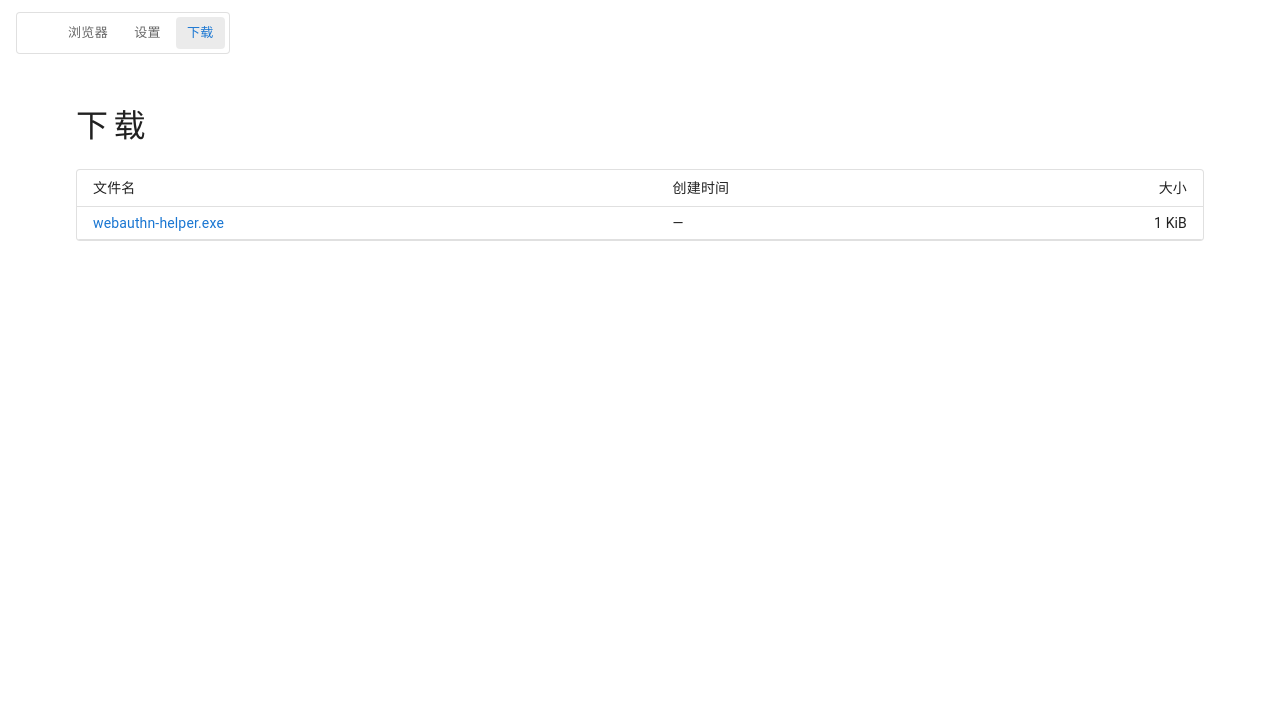
same-document navigation preserves the owned native session › opens Downloads with both password scopes locked and leaves their protections intact
Expected: the table named "下载文件" is shown, [77, 170, 1203, 240]
Expected: the field labelled "密码" is not shown
Click the link "设置".
click(148, 32)  # box [134, 25, 161, 40]
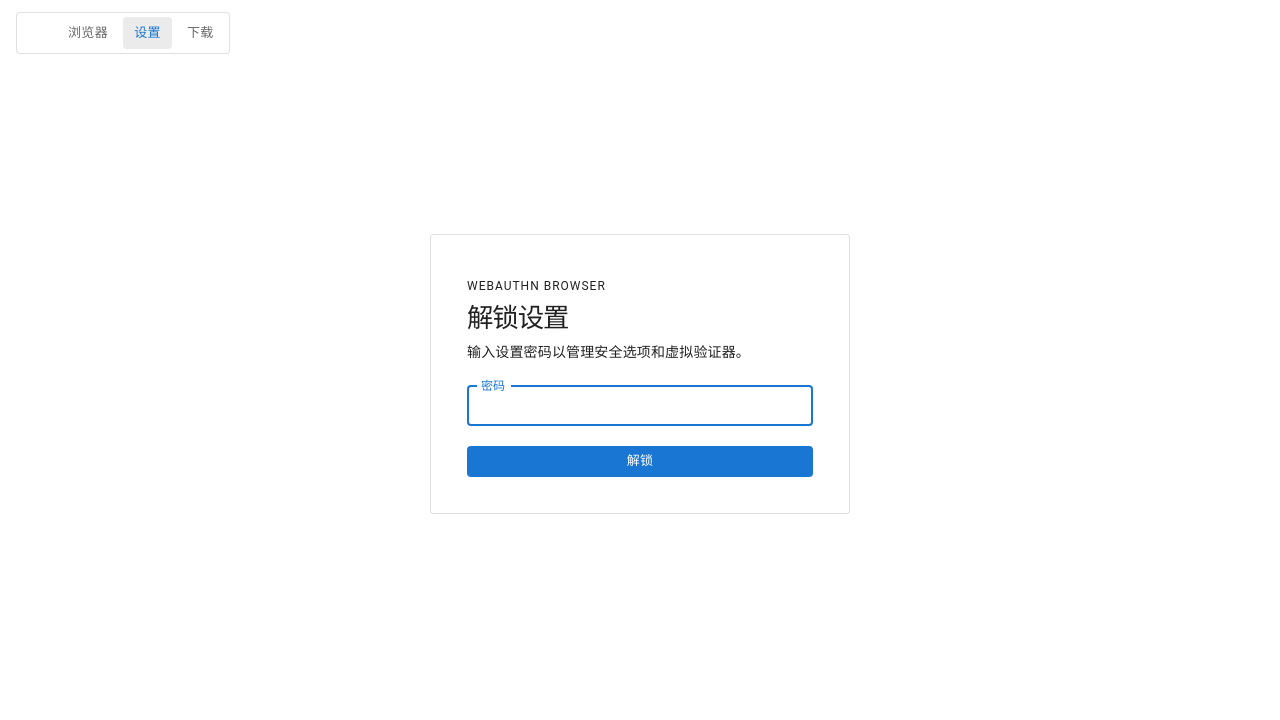
Expected: the heading "解锁设置" is shown, [467, 303, 568, 333]
Click the link "浏览器".
click(88, 32)  # box [68, 25, 108, 40]
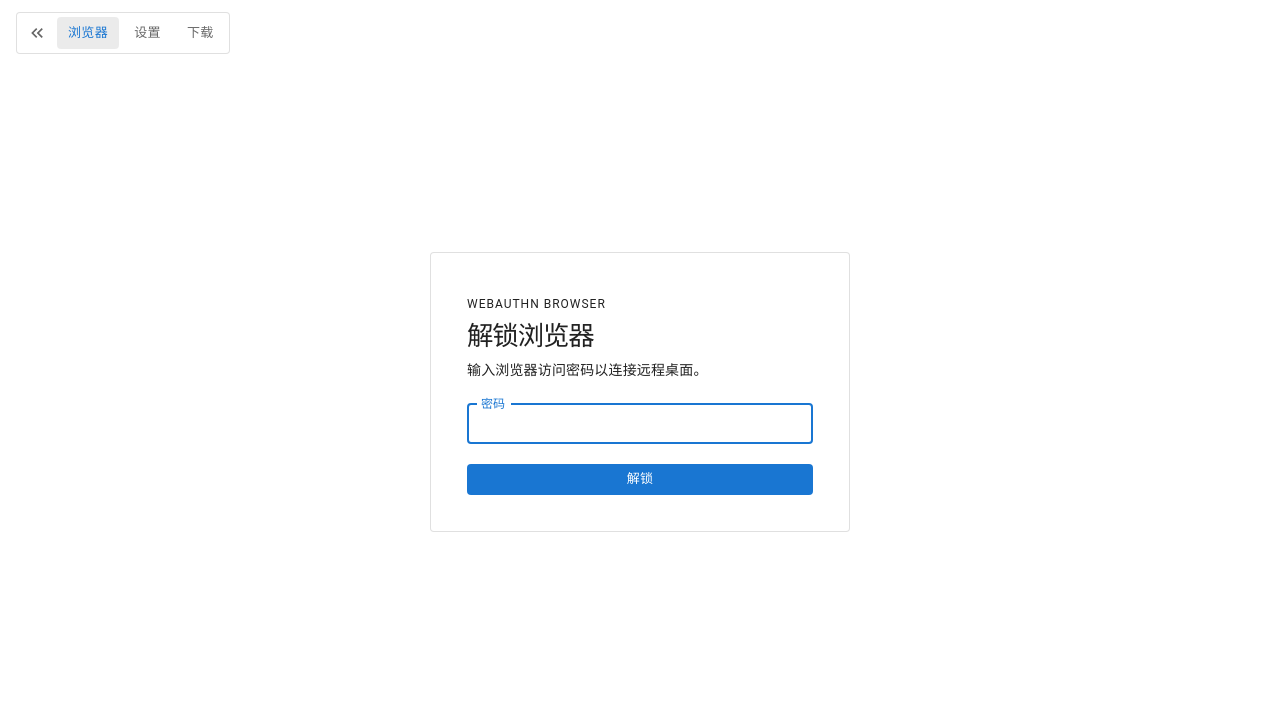
Expected: the heading "解锁浏览器" is shown, [467, 321, 594, 351]
Click the link "下载".
click(200, 32)  # box [187, 25, 214, 40]
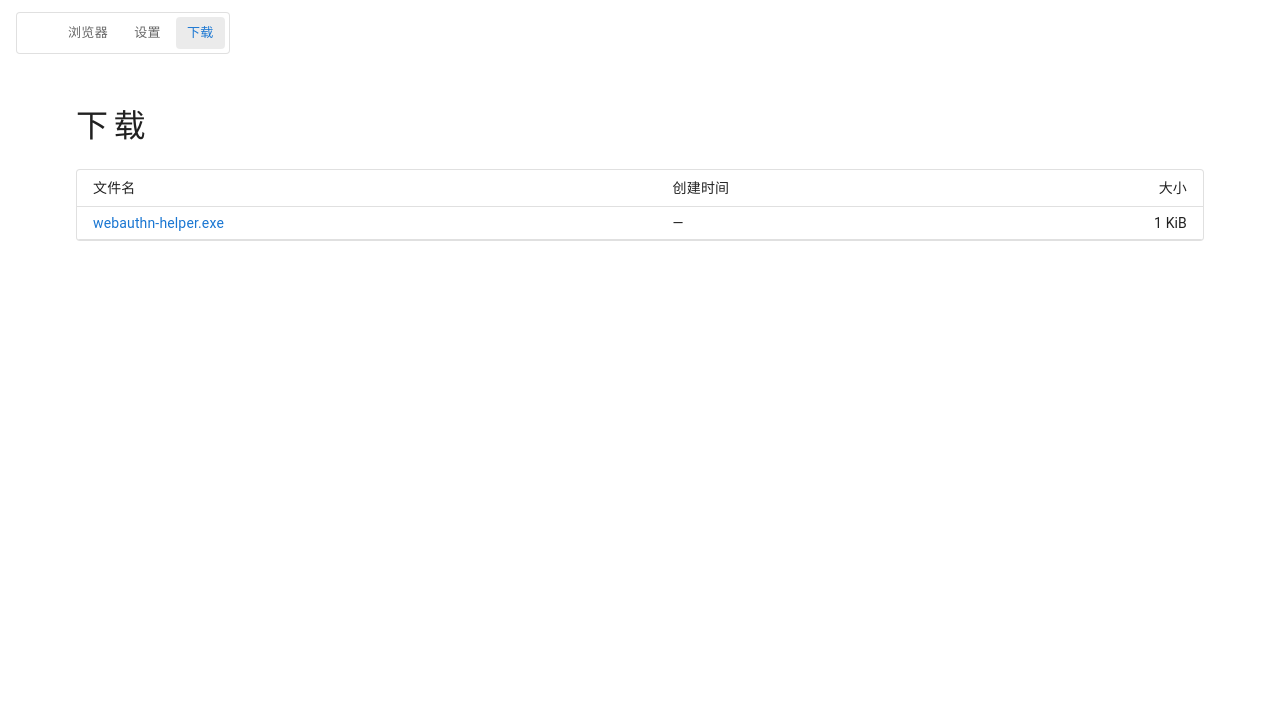
Expected: the table named "下载文件" is shown, [77, 170, 1203, 240]
